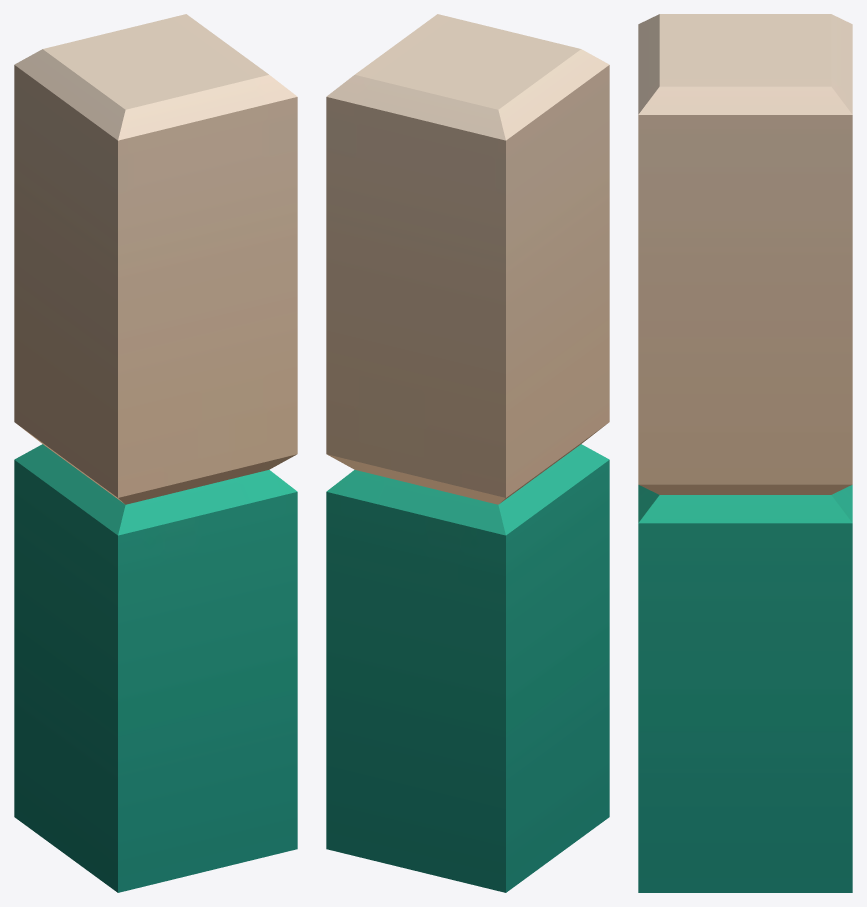
File: pillar-b.glb
The picture shows the model from 3 angles, left to right: view 1: azimuth 30°, elevation 25°; view 2: azimuth 150°, elevation 25°; view 3: azimuth 270°, elevation 25°; orthographic projection. The views are drawn at different scales.
Parts seen in each view (by area): view 1: pillar_B; view 2: pillar_B; view 3: pillar_B.
Boxes of the visible parts, x1,y1,x2,y2 form: pillar_B: (14, 14, 297, 892); pillar_B: (326, 14, 609, 892); pillar_B: (638, 14, 852, 892).
Bounding box in the file's own units: 1 × 4.1 × 1.
Materials: 1 (1 with a texture image).
